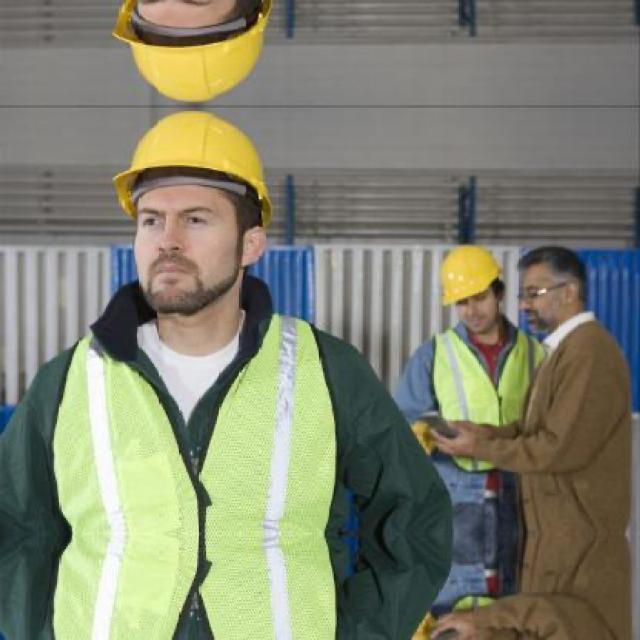safetyhelmet: (103, 106, 285, 236), (439, 243, 502, 332)
